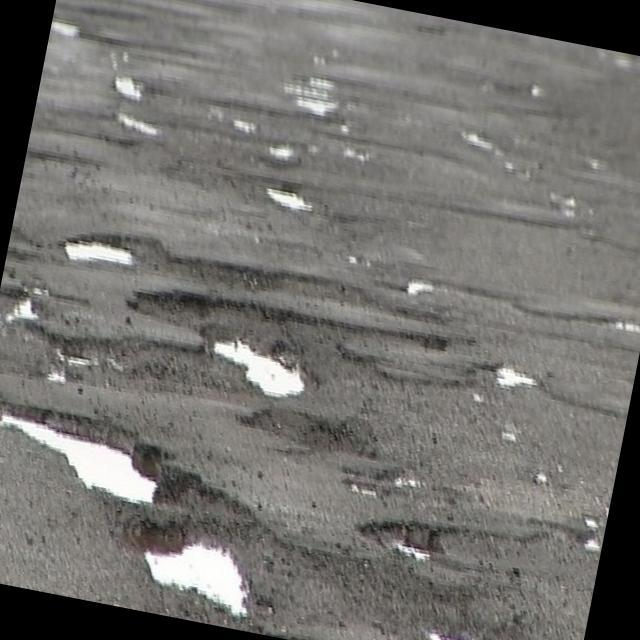Pothole: (0, 394, 183, 521), (120, 508, 274, 626), (196, 322, 318, 413), (55, 224, 142, 282), (378, 510, 441, 570), (293, 68, 349, 124), (261, 177, 318, 225), (0, 282, 43, 332), (422, 614, 488, 640), (112, 105, 158, 139), (494, 365, 538, 397), (109, 70, 148, 102), (581, 508, 606, 556), (404, 270, 436, 306), (467, 128, 497, 160), (266, 139, 300, 167), (231, 110, 260, 140)
